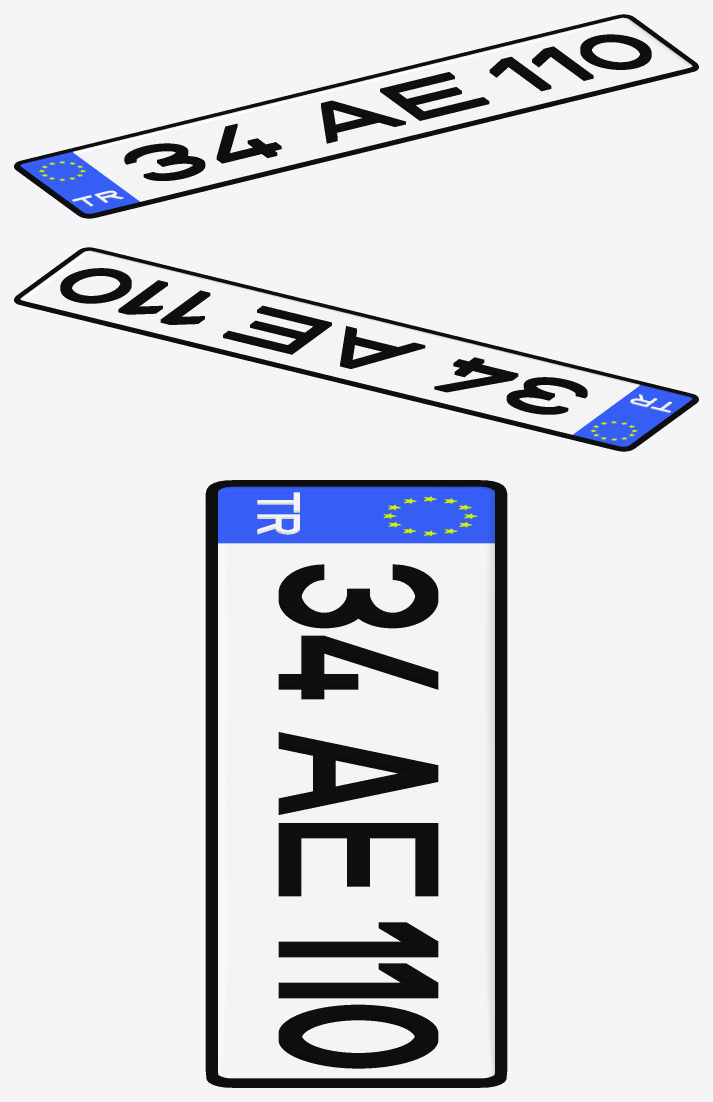
File: LicensePlate.glb
3 renders of one model, top to bottom at view 1: azimuth 30°, elevation 25°; view 2: azimuth 150°, elevation 25°; view 3: azimuth 270°, elevation 25°, orthographic. The views are drawn at different scales.
Visible parts, largest first — view 1: Object_4, Object_5, Object_3; view 2: Object_4, Object_5, Object_3; view 3: Object_4, Object_5, Object_3.
Part boxes in pixels (<box>): Object_4: <box>72,17,692,206</box>; Object_5: <box>14,14,698,218</box>; Object_3: <box>20,151,139,213</box>; Object_4: <box>20,250,671,434</box>; Object_5: <box>14,247,698,451</box>; Object_3: <box>573,384,692,446</box>; Object_4: <box>218,492,494,1078</box>; Object_5: <box>205,480,507,1087</box>; Object_3: <box>218,486,494,543</box>.
Bounding box in the file's own units: 0.5201 × 0.00394 × 0.1098.
